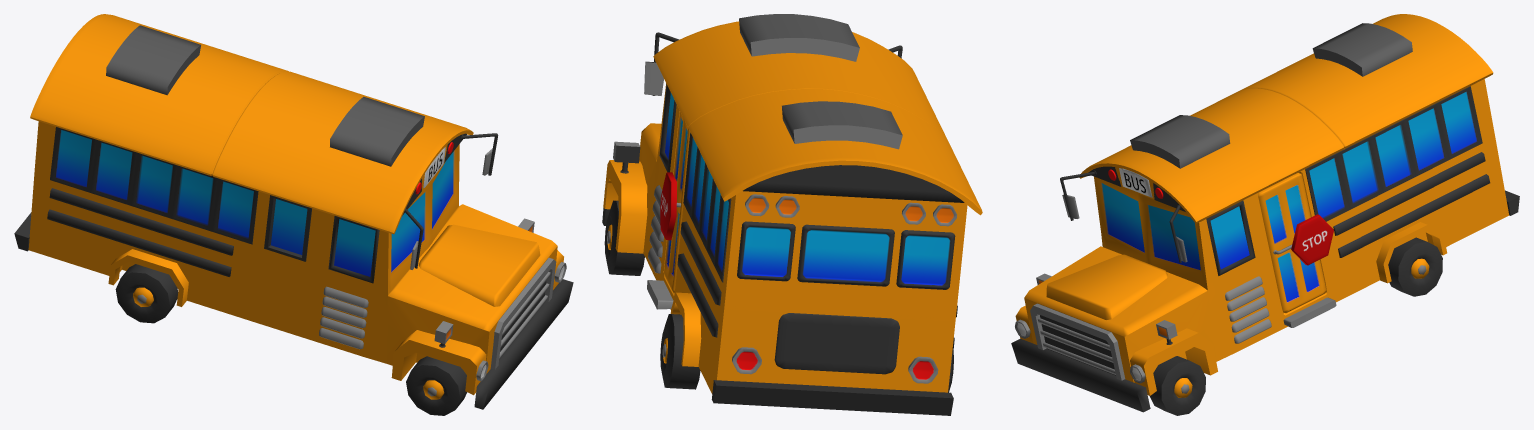
The model's file is Stylized_Bus_3D_Model.glb.
The picture shows the model from 3 angles, left to right: view 1: azimuth 30°, elevation 25°; view 2: azimuth 150°, elevation 25°; view 3: azimuth 270°, elevation 25°; orthographic projection. The views are drawn at different scales.
Visible parts, largest first — view 1: unnamed; view 2: unnamed; view 3: unnamed.
Part boxes in pixels (x1=…): unnamed: x1=14, y1=14, x2=573, y2=415; unnamed: x1=602, y1=14, x2=982, y2=415; unnamed: x1=1011, y1=14, x2=1519, y2=415.
Bounding box in the file's own units: 0.515 × 0.3349 × 0.5651.
1 material, 1 textured.
